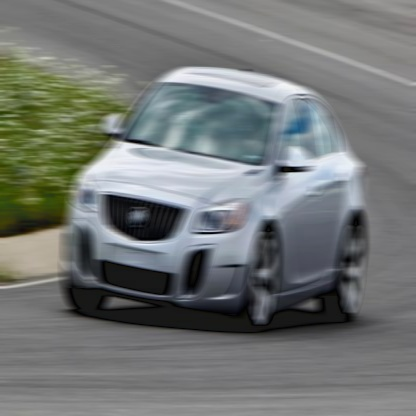Vehicle: (64, 63, 366, 332)
